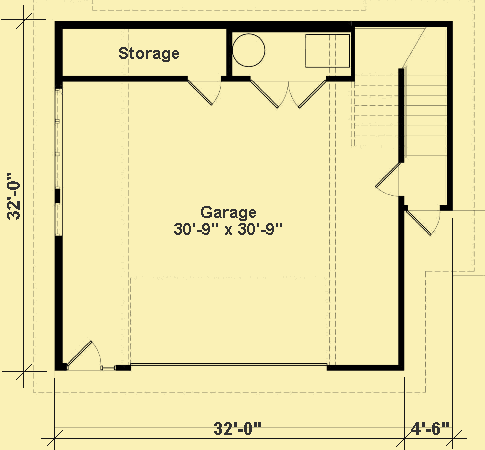door: (249, 77, 328, 111), (406, 208, 445, 238), (186, 77, 221, 109), (68, 340, 104, 371), (374, 163, 400, 201)
stairs: (397, 70, 448, 173)
window: (51, 84, 69, 239)
